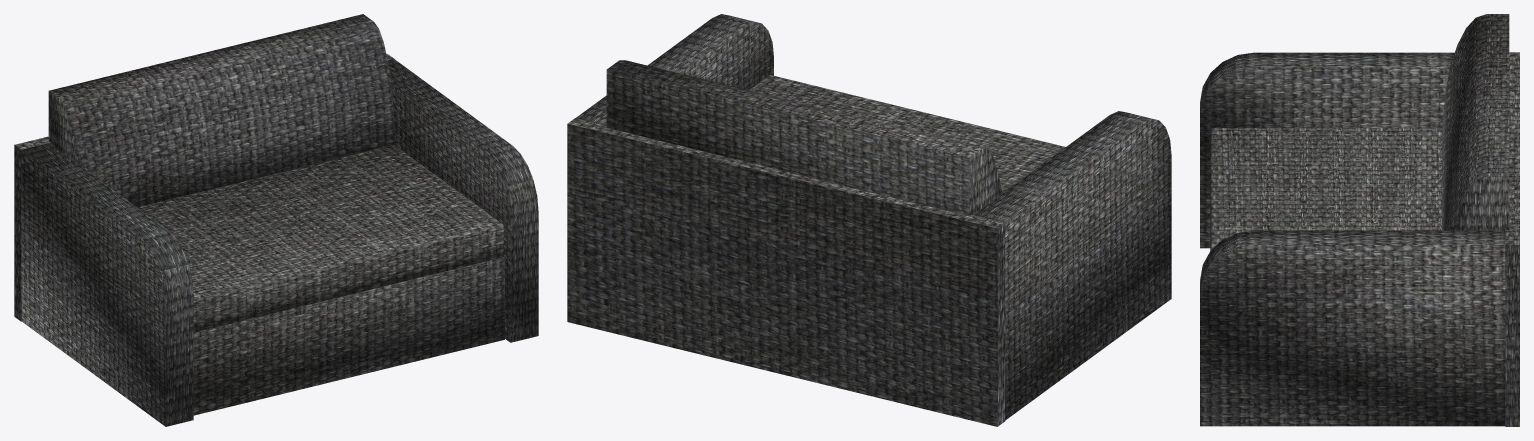
The model's file is Куб2Дива.glb.
3 renders of one model, left to right at view 1: azimuth 30°, elevation 25°; view 2: azimuth 150°, elevation 25°; view 3: azimuth 270°, elevation 25°, orthographic. The views are drawn at different scales.
Visible parts, largest first — view 1: Куб.012; view 2: Куб.012; view 3: Куб.012.
Boxes of the visible parts, x1,y1,x2,y2 form: Куб.012: [14, 14, 538, 426]; Куб.012: [567, 14, 1171, 426]; Куб.012: [1200, 14, 1519, 426].
Size of the model in its own units: 3.46 by 1.97 by 2.43.
Materials: 1 (1 with a texture image).
